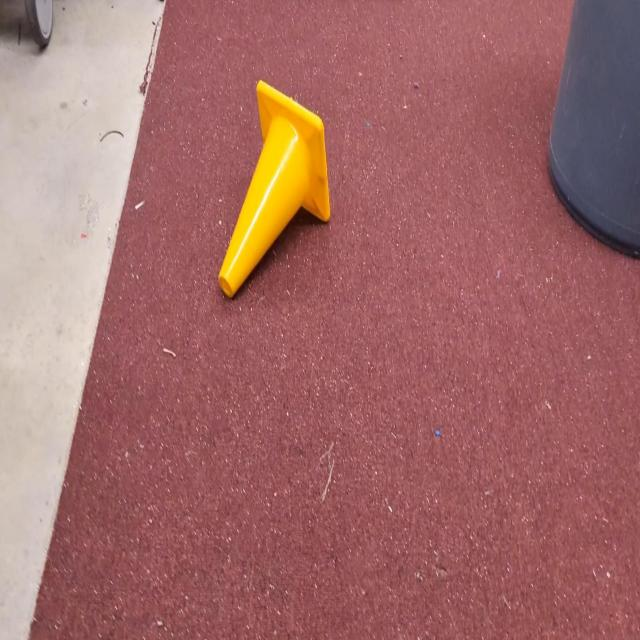frc_cone: (217, 81, 330, 299)
